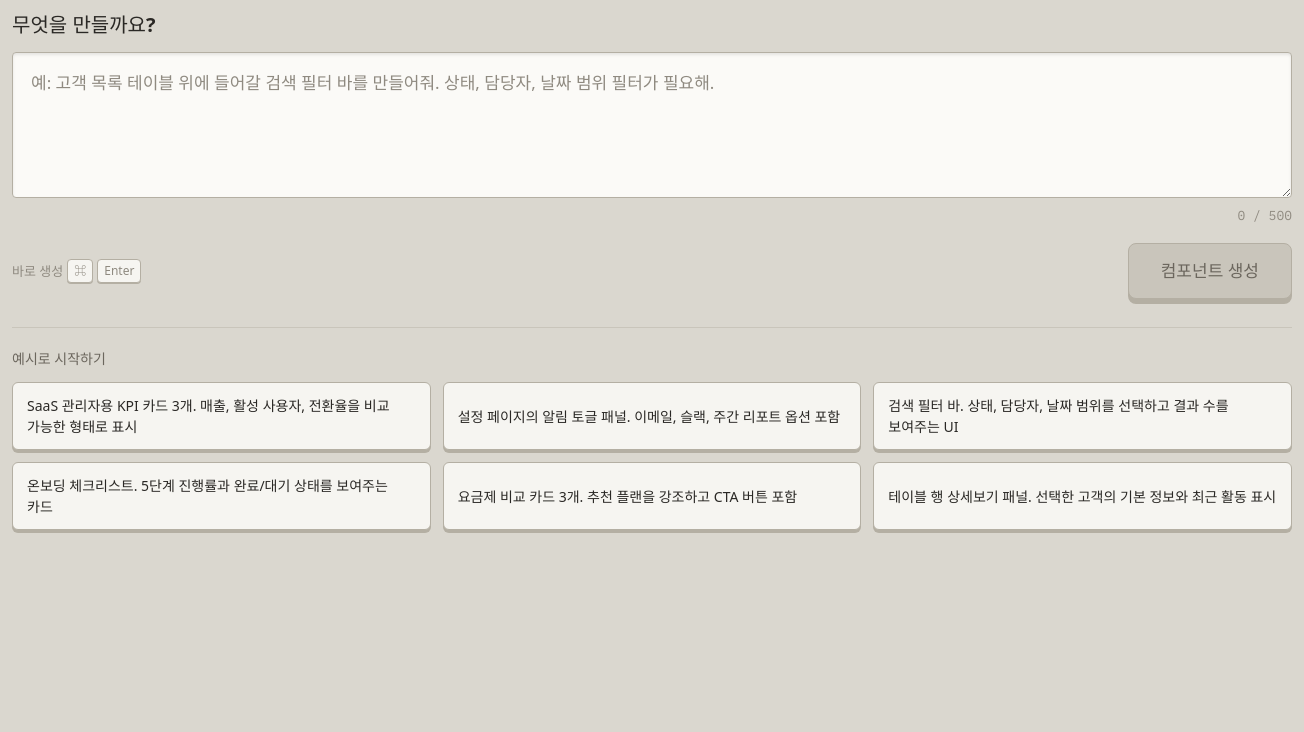
PromptInput › 현재 글자 수와 최대 글자 수를 보여준다
In the text box: point(652, 125) [12,52,1292,198], type "카드"
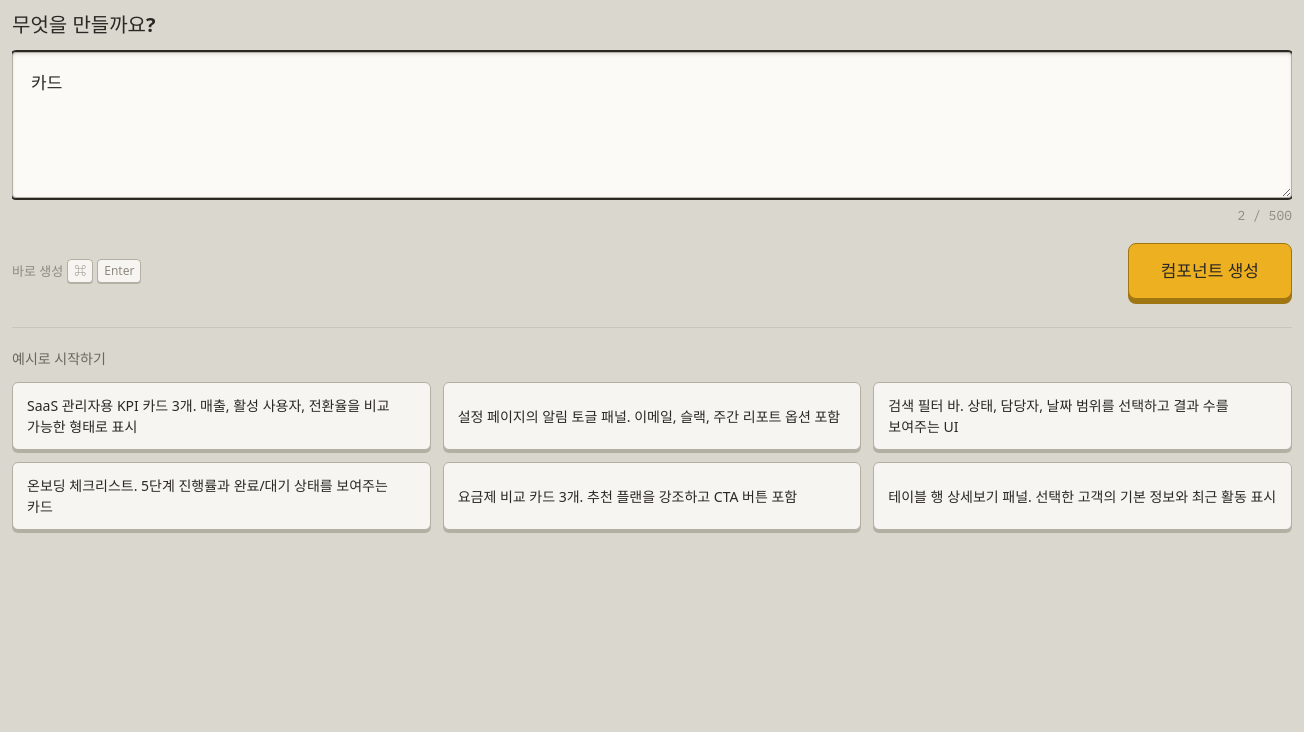
Check: the text "2 / 500" is shown, box [1237,206,1292,227]
